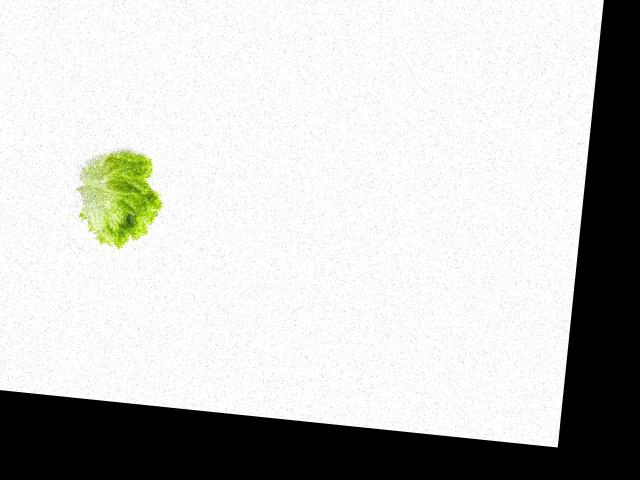lettuce: (69, 138, 164, 254)
